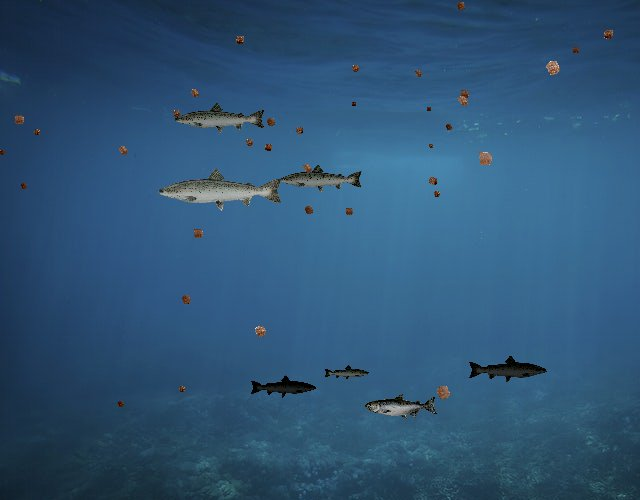Fish: (156, 166, 285, 212), (174, 102, 268, 135), (278, 163, 364, 194), (467, 354, 548, 384), (365, 394, 438, 420), (250, 375, 318, 399), (323, 364, 370, 381)
Pellet: (248, 319, 273, 344), (451, 0, 470, 16), (347, 60, 364, 77), (174, 382, 189, 397), (429, 187, 444, 201), (114, 397, 128, 411), (30, 125, 44, 139)
